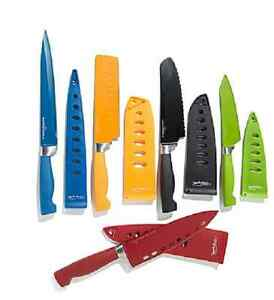knief: (28, 23, 62, 218)
